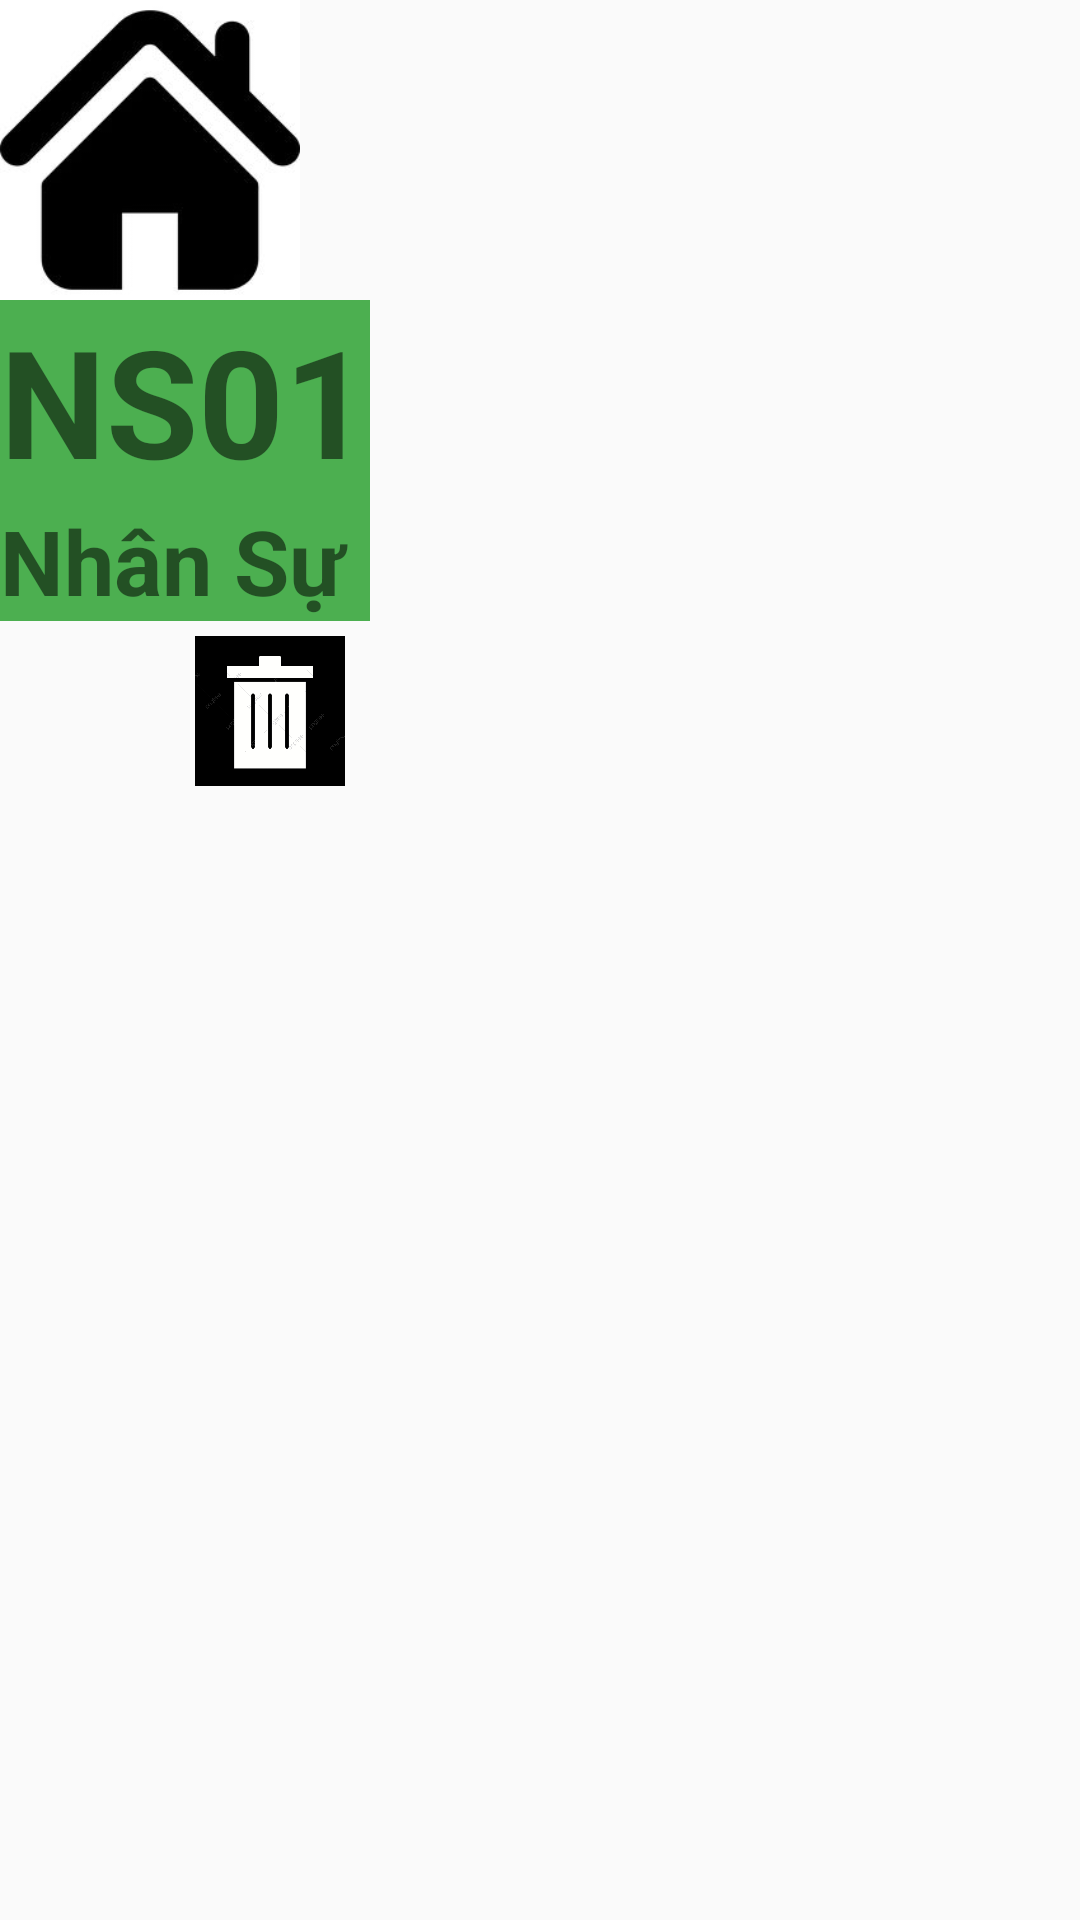

Icons on this 1080*1920 Android screen, each with its box as (x1, y1, x2, y2):
delete: (195, 636, 345, 786)
phong: (0, 10, 300, 290)
